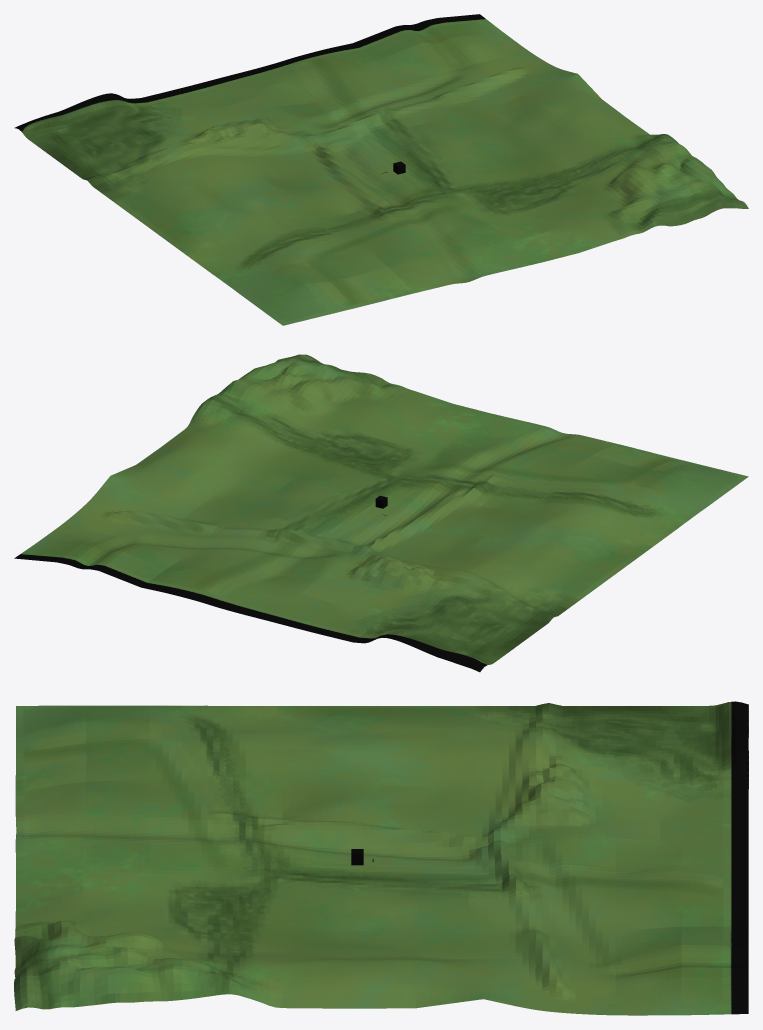
File: trickyVision1Demonstration.gltf
3 renders of one model, top to bottom at view 1: azimuth 30°, elevation 25°; view 2: azimuth 150°, elevation 25°; view 3: azimuth 270°, elevation 25°, orthographic. The views are drawn at different scales.
Visible parts, largest first — view 1: Plane; view 2: Plane; view 3: Plane.
Boxes of the visible parts, x1,y1,x2,y2 form: Plane: (14, 14, 748, 325); Plane: (14, 354, 748, 672); Plane: (14, 701, 748, 1015).
Bounding box in the file's own units: 997 × 64.32 × 995.
Materials: 1 (1 with a texture image).
